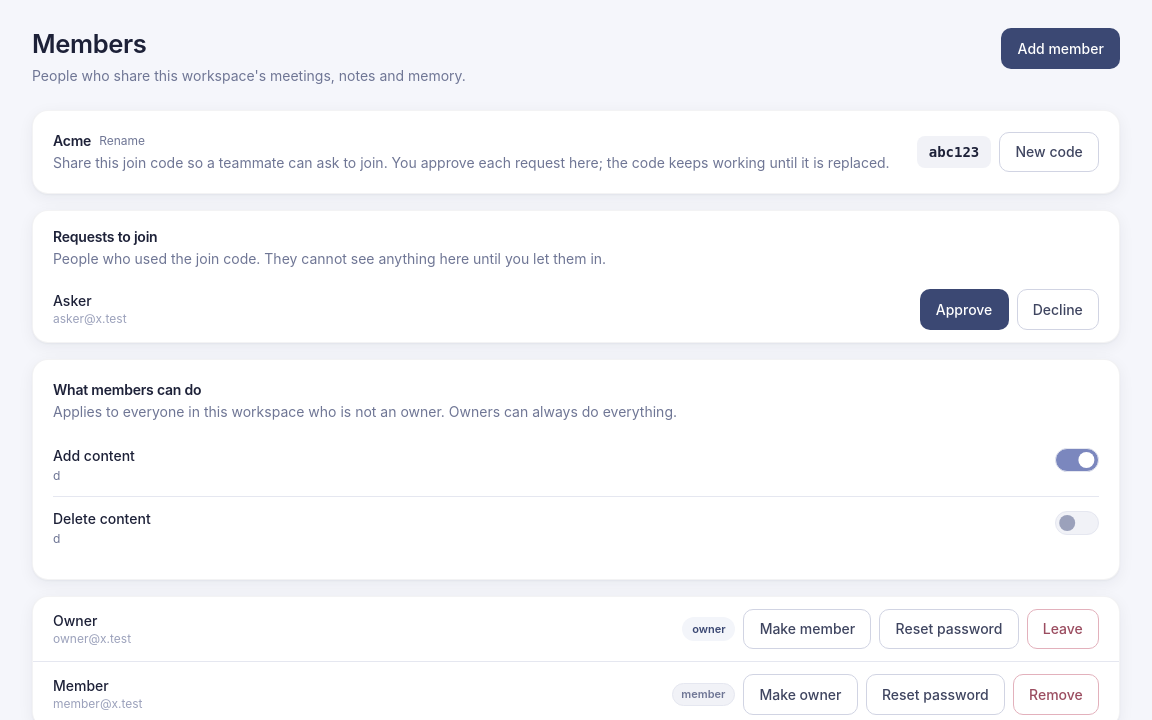
Test: Members page join requests › shows an owner the people waiting, and approves one
The width and height of the screenshot is (1152, 720).
Expected: the heading "Requests to join" is shown, 53,228 -> 158,245
Click the button "Approve": (964, 309) 920,289 -> 1009,330
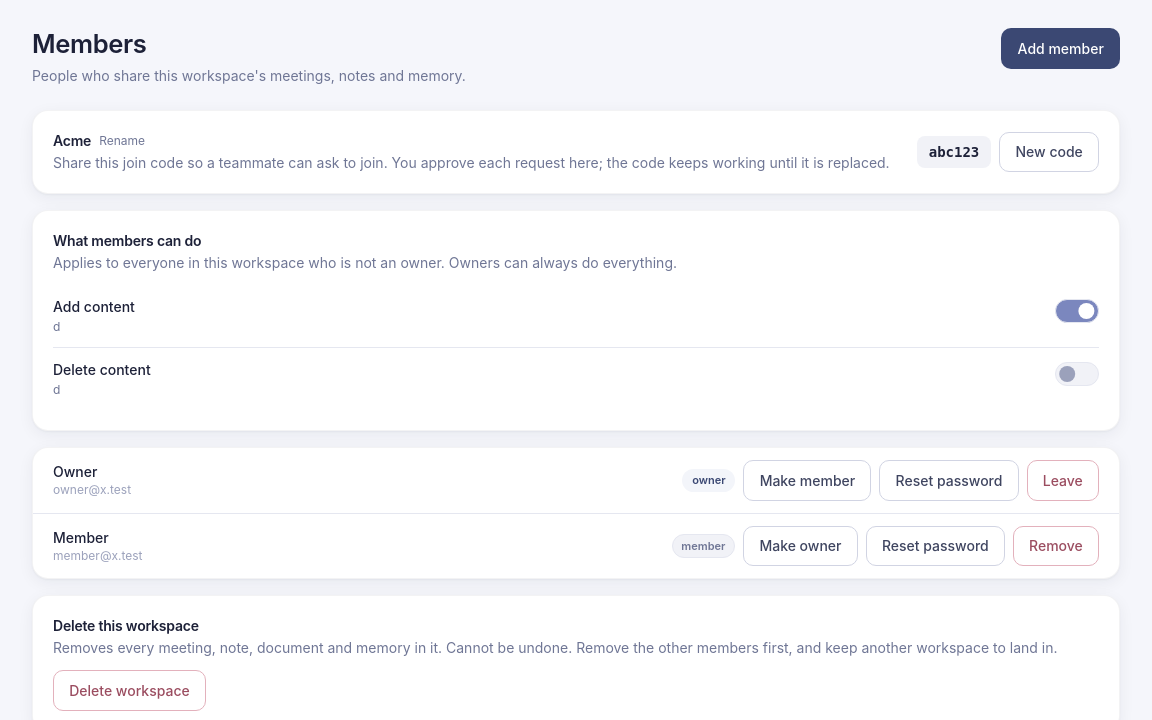
Expected: the heading "Requests to join" is gone
